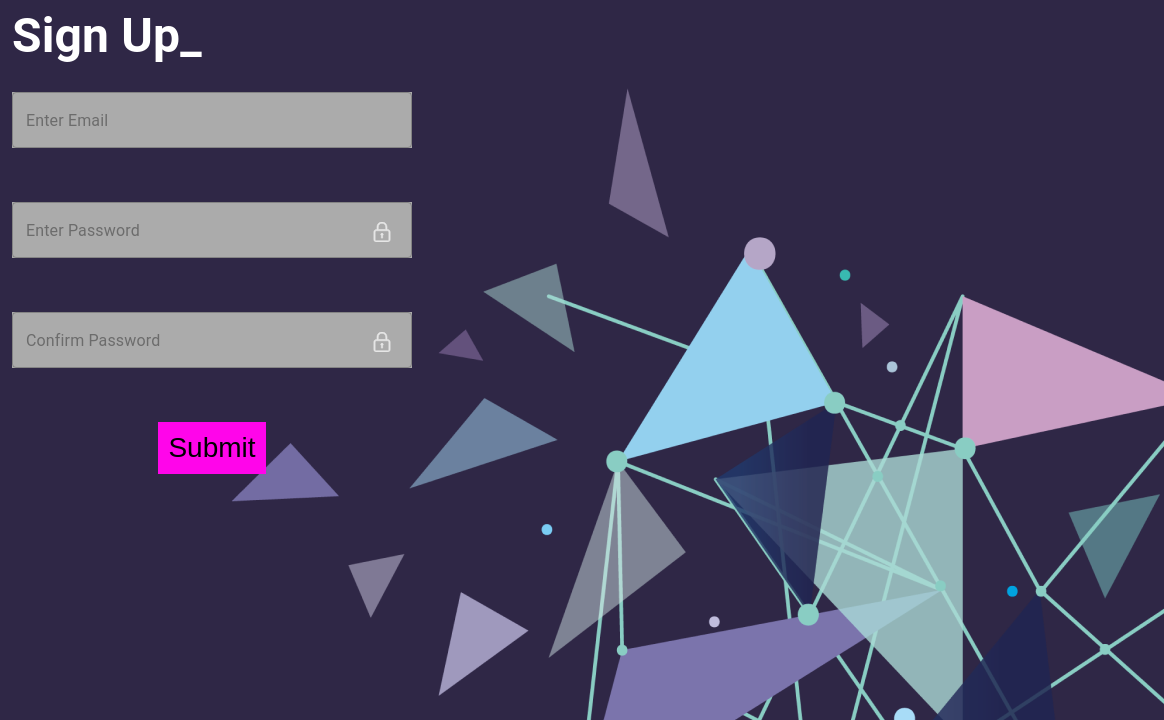
it: Sign Up › shows error messages
What coordinates should you click on to do the following:
click the button "Submit"
I would click on:
 (212, 448)
Its box is [158,422,266,474].
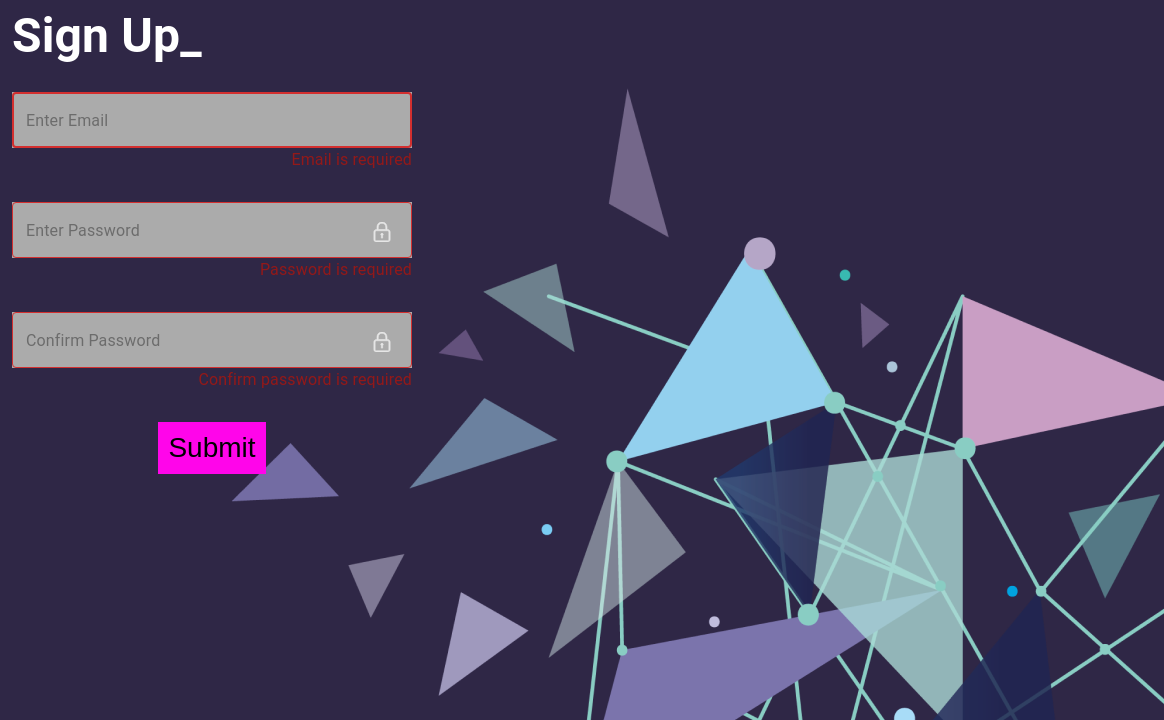
Now the text "Confirm password is required" is shown, box [198,370,412,389]
